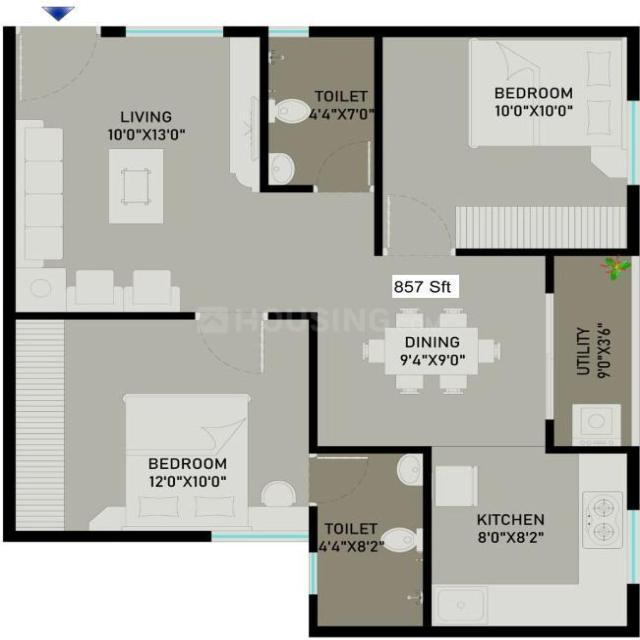Bedroom: (379, 28, 640, 255)
Bedroom with Toilet: (5, 312, 433, 633)
Dining: (361, 305, 504, 397)
Kitchen: (428, 446, 640, 640)
Living: (5, 27, 269, 318)
Toilet: (313, 446, 433, 634), (260, 29, 381, 195)
Utility: (546, 251, 638, 456)
